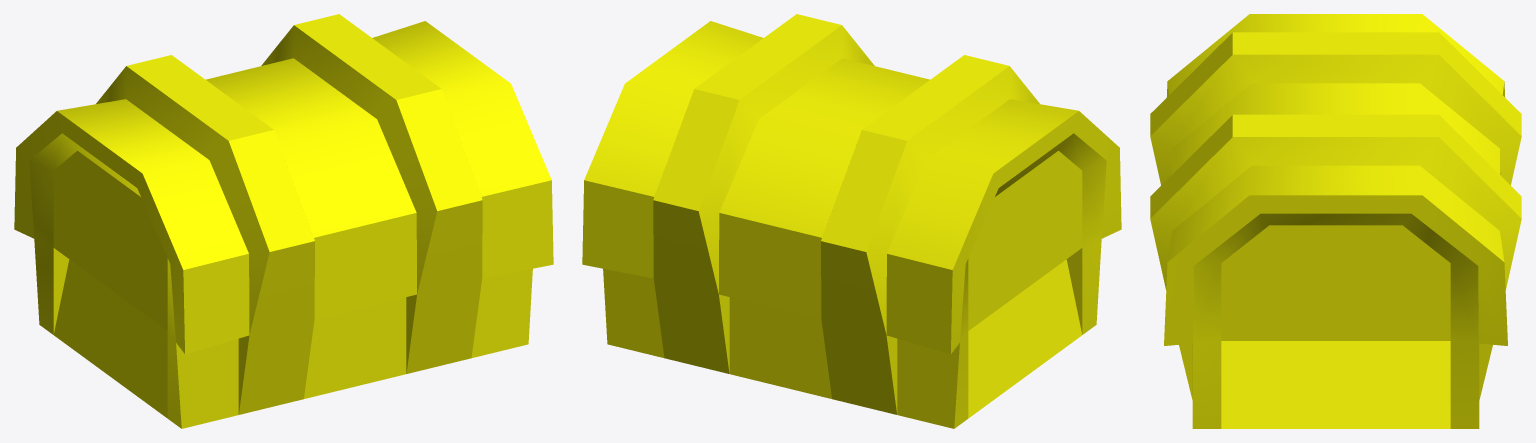
The model's file is kaykit-trunk-large-a.glb.
3 views of the same model, side by side, from view 1: azimuth 30°, elevation 25°; view 2: azimuth 150°, elevation 25°; view 3: azimuth 270°, elevation 25° (orthographic).
Parts seen in each view (by area): view 1: trunk_large_A; view 2: trunk_large_A; view 3: trunk_large_A.
Part boxes in pixels (x1,y1,x2,y2): trunk_large_A: (14,14,553,428); trunk_large_A: (582,14,1121,428); trunk_large_A: (1150,14,1521,428).
Size of the model in its own units: 1.5 by 1 by 1.3.
